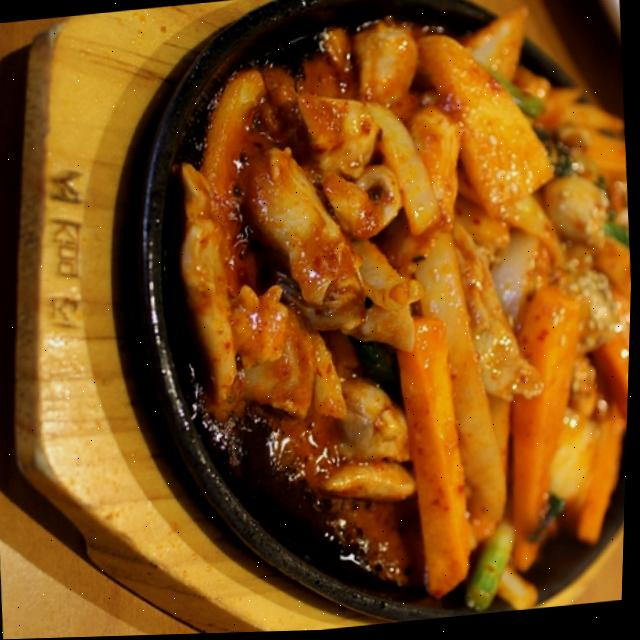鸡肉料理 含炸鸡: (73, 0, 640, 638)
